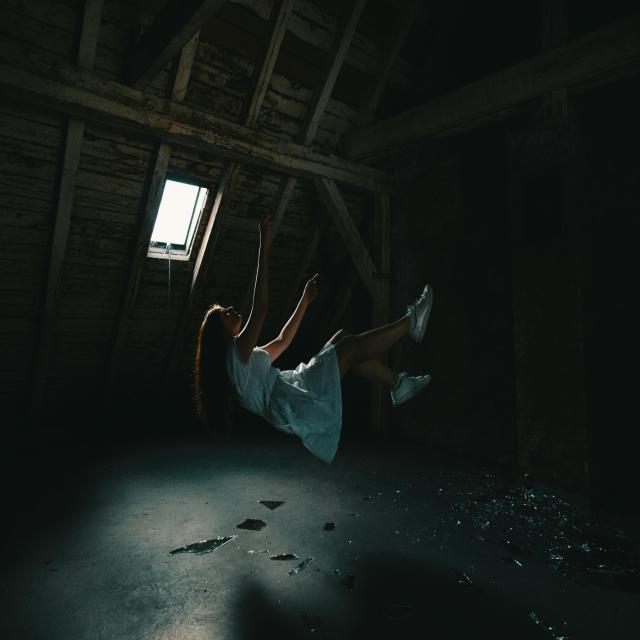lie: (189, 279, 454, 426)
